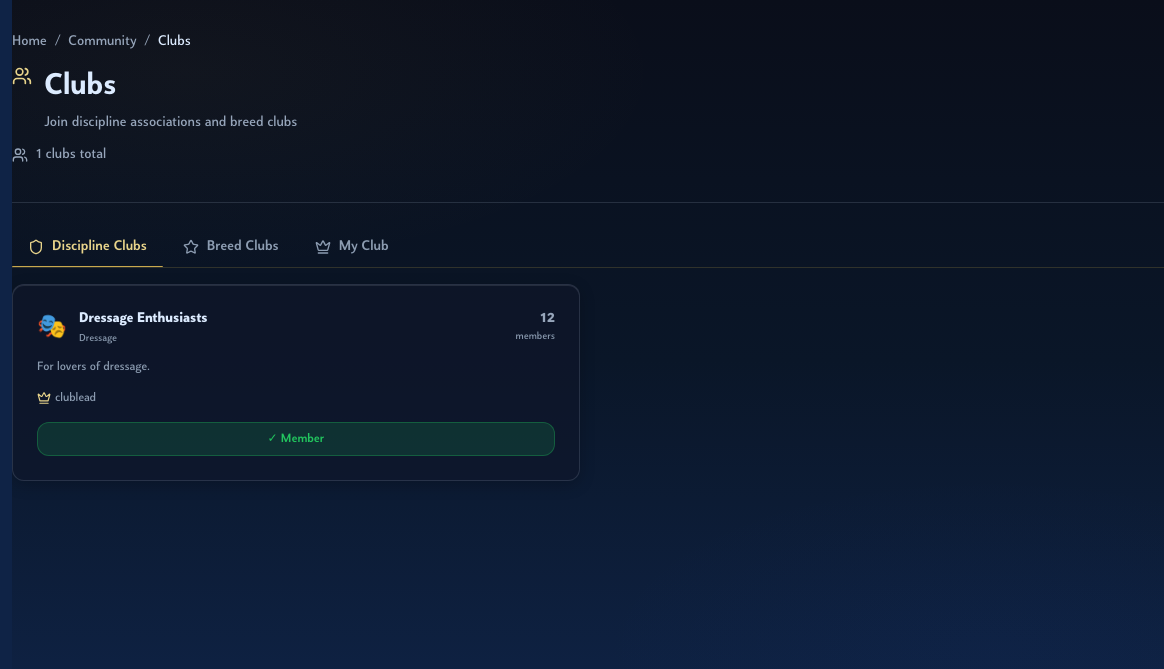
Test case: ElectionCard candidates fetch states (Equoria-1rsb7) › retry refetches the results and shows the candidates
This screenshot has width=1164, height=669.
Step 1. Click the tab with test id "tab-my-club" → (352, 247), box [299, 227, 405, 267]
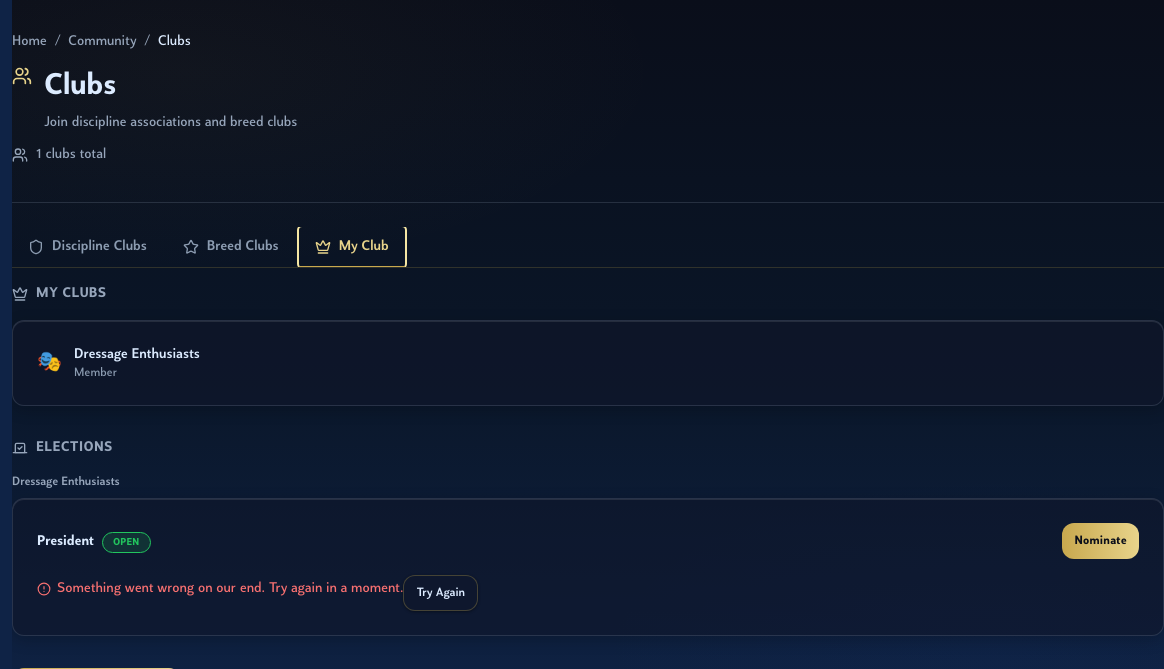
Step 2. Click the button "Try Again" → (441, 593), box [403, 575, 478, 611]
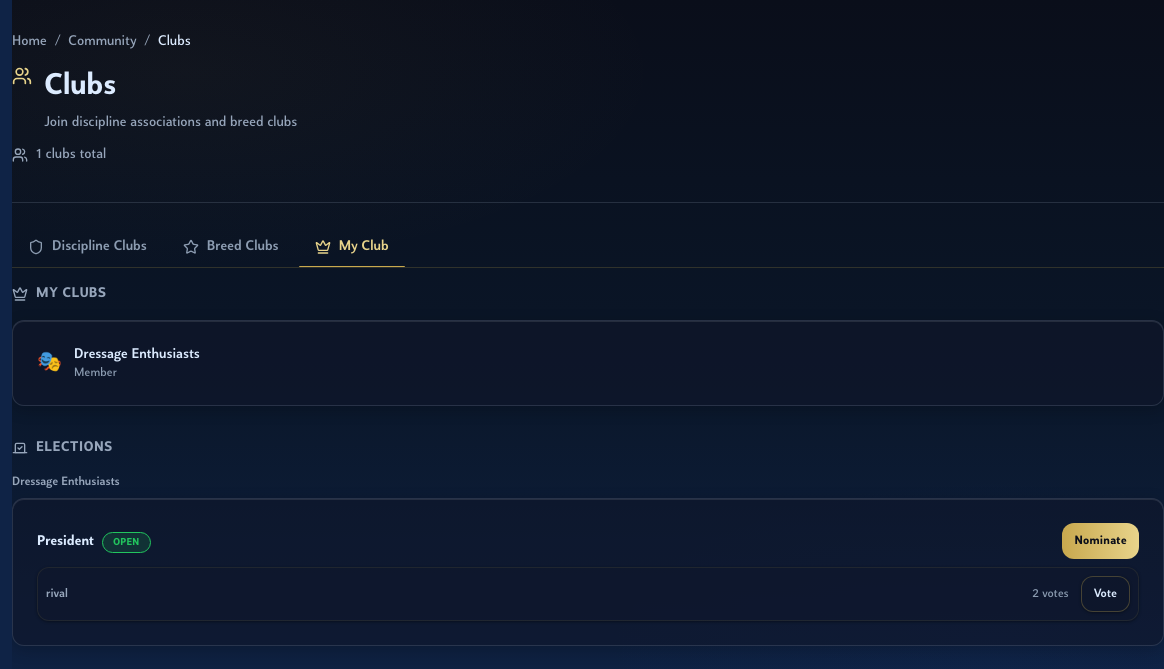
Result: the text "rival" is shown at [46, 586, 68, 602]
Result: the message "Something went wrong on our end. Try again in a moment." is gone
